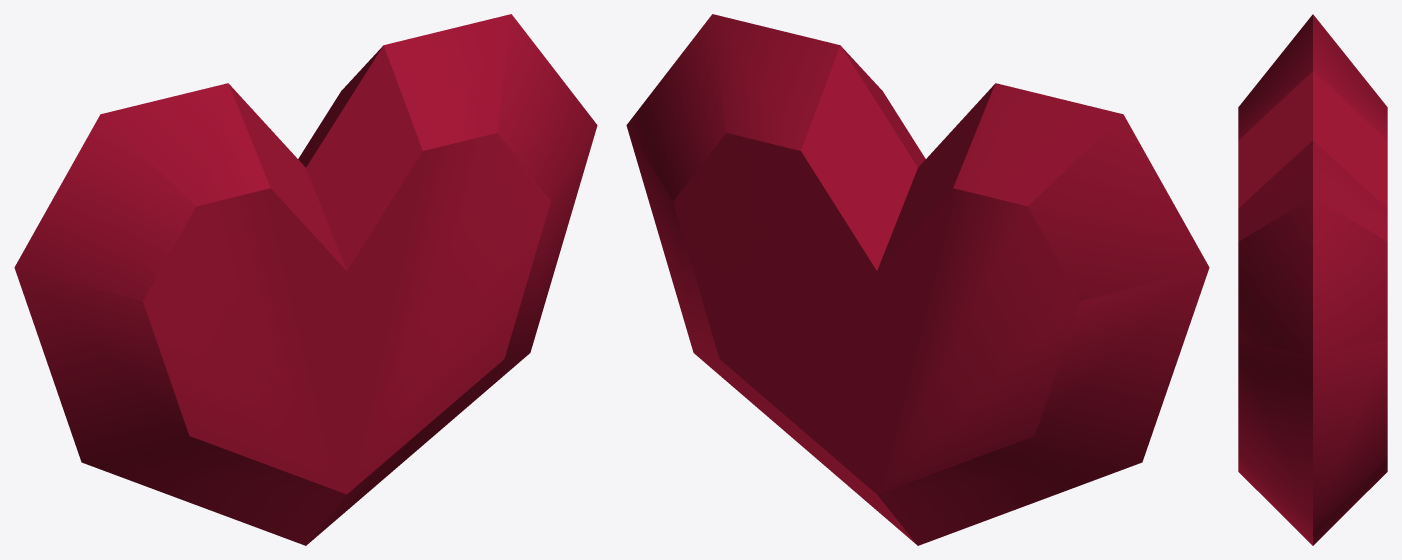
Rendered from heart.fbx.
The picture shows the model from 3 angles, left to right: view 1: azimuth 30°, elevation 25°; view 2: azimuth 150°, elevation 25°; view 3: azimuth 270°, elevation 25°; orthographic projection. The views are drawn at different scales.
Visible parts, largest first — view 1: heart; view 2: heart; view 3: heart.
Part boxes in pixels (box(x1,y1,x2,y2)): heart: box(14, 14, 597, 545); heart: box(626, 14, 1209, 545); heart: box(1238, 14, 1387, 545).
Bounding box in the file's own units: 149 × 117 × 36.15.
